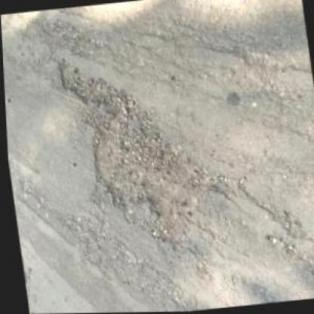Hueco: (72, 84, 226, 258), (54, 51, 133, 108)
